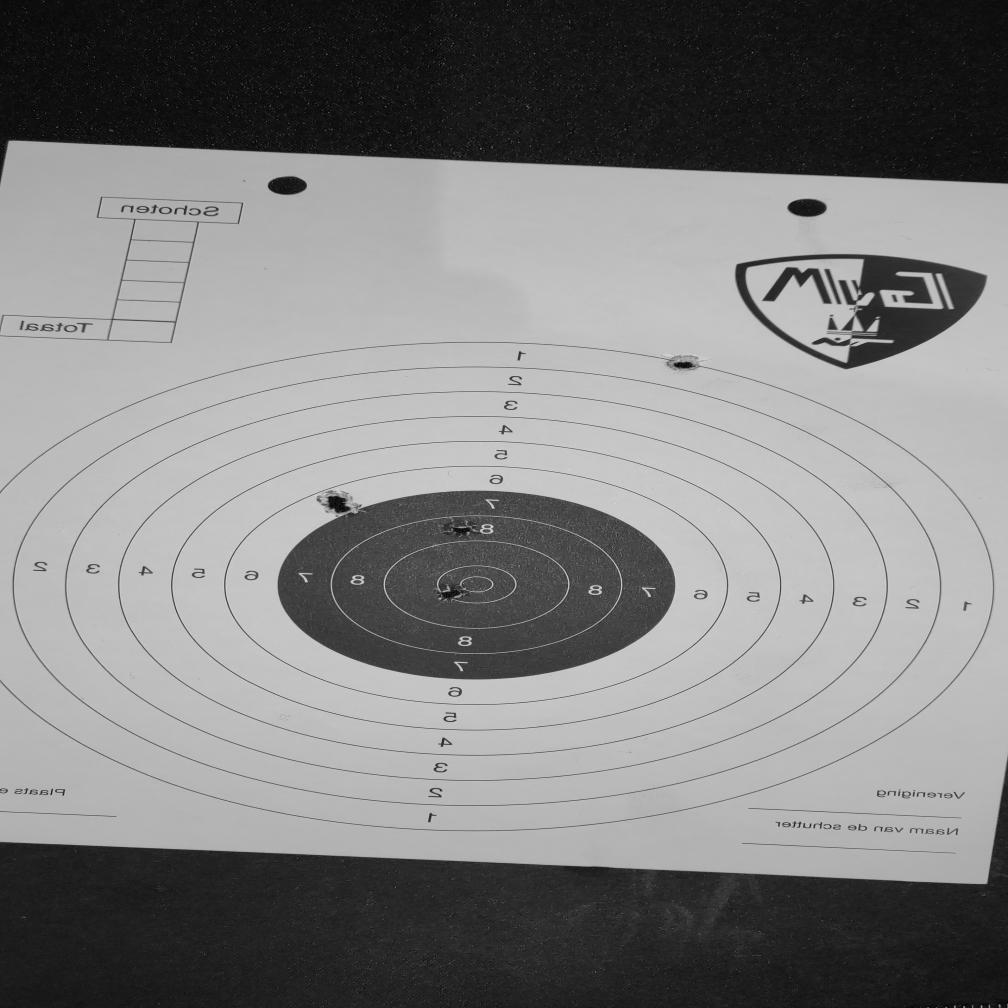1: (662, 353, 708, 373)
10: (432, 584, 472, 602)
6: (314, 488, 360, 502)
7: (321, 502, 360, 517)
8: (440, 519, 480, 538)
Target: (0, 338, 997, 837)
black_contour: (276, 490, 672, 680)
